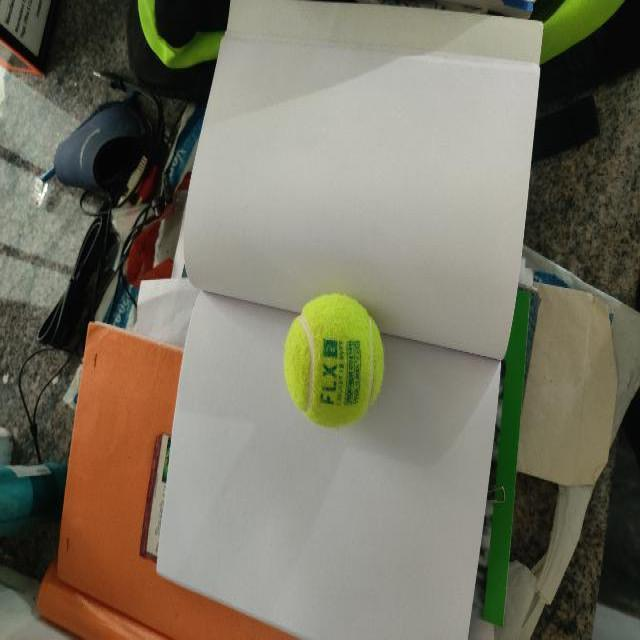tennis-ball: (283, 294, 383, 428)
